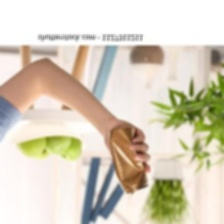can: (107, 121, 151, 195)
